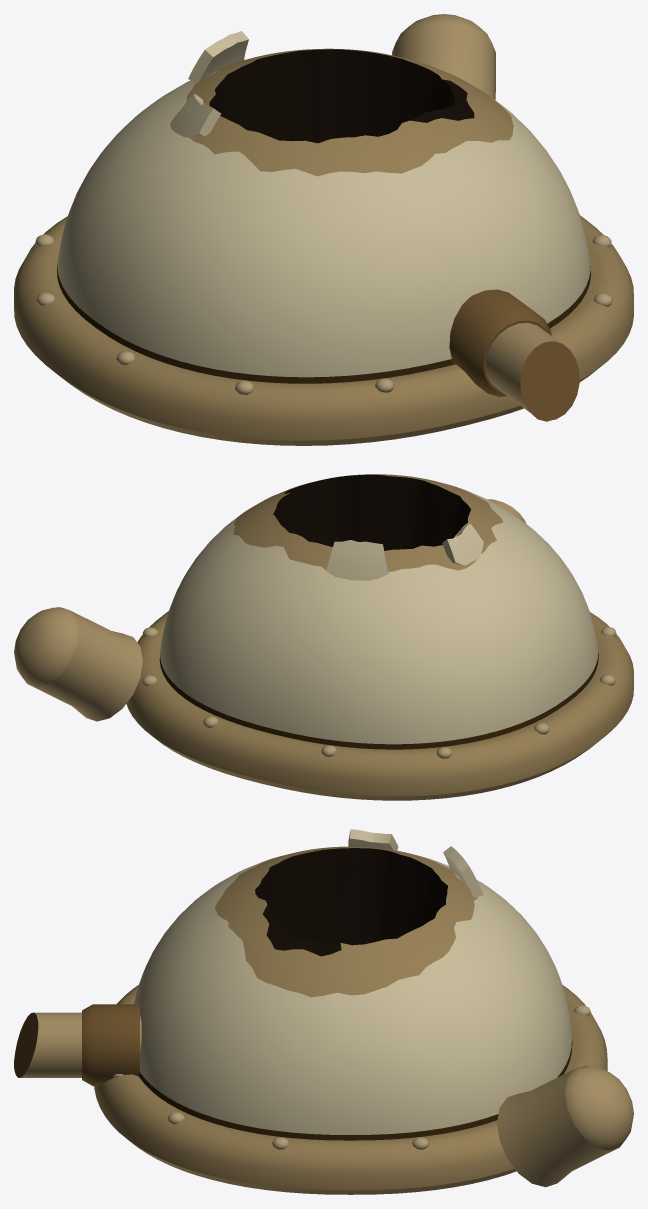
File: disc_turret_wreck.glb
3 renders of one model, top to bottom at view 1: azimuth 30°, elevation 25°; view 2: azimuth 150°, elevation 25°; view 3: azimuth 270°, elevation 25°, orthographic. The views are drawn at different scales.
Visible parts, largest first — view 1: dome, ring, barrel, knob, collar, petal0, petal1; view 2: dome, ring, knob, petal0, petal1; view 3: dome, ring, knob, collar, barrel, petal0, petal1.
Part boxes in pixels (x1=…): dome: x1=57, y1=48, x2=590, y2=383; ring: x1=14, y1=215, x2=633, y2=445; barrel: x1=485, y1=322, x2=579, y2=420; knob: x1=392, y1=14, x2=495, y2=99; collar: x1=449, y1=289, x2=551, y2=396; petal0: x1=188, y1=31, x2=248, y2=83; petal1: x1=175, y1=93, x2=221, y2=137; dome: x1=159, y1=474, x2=598, y2=749; ring: x1=126, y1=611, x2=633, y2=800; knob: x1=14, y1=607, x2=142, y2=721; petal0: x1=326, y1=540, x2=388, y2=580; petal1: x1=442, y1=523, x2=483, y2=565; dome: x1=134, y1=846, x2=572, y2=1140; ring: x1=94, y1=985, x2=607, y2=1194; knob: x1=497, y1=1065, x2=633, y2=1187; collar: x1=82, y1=1004, x2=139, y2=1086; barrel: x1=14, y1=1012, x2=141, y2=1077; petal0: x1=443, y1=846, x2=483, y2=897; petal1: x1=348, y1=829, x2=398, y2=850.
Bounding box in the file's own units: 18.22 × 7.61 × 19.78.
